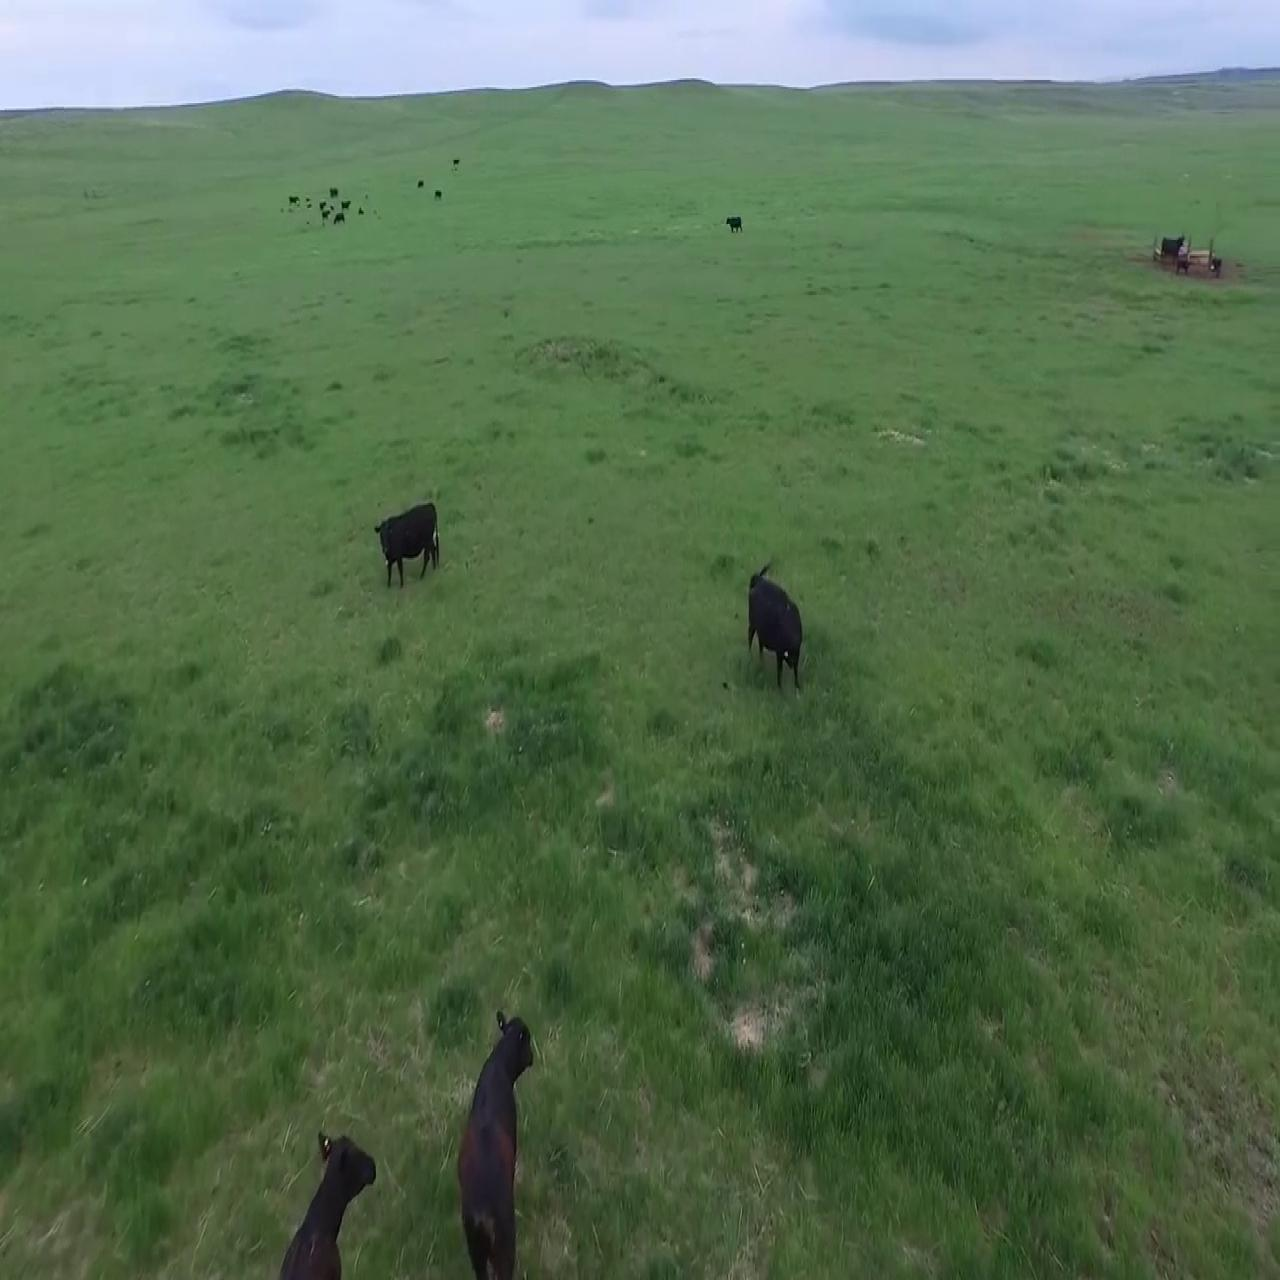cow: (454, 1008, 531, 1278), (278, 1114, 388, 1280), (744, 560, 812, 700), (372, 497, 443, 597), (722, 207, 745, 247)
